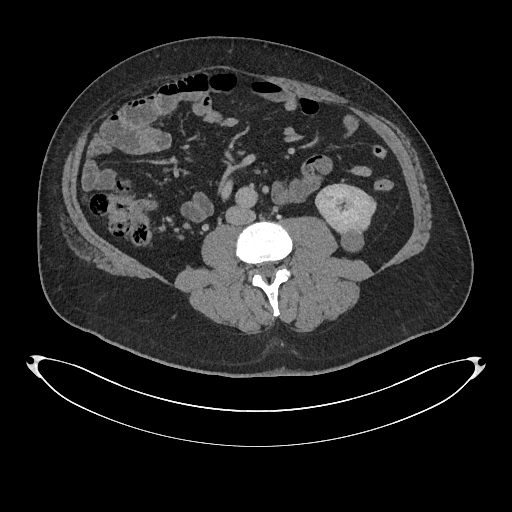Lesion: (339, 228, 365, 255)
